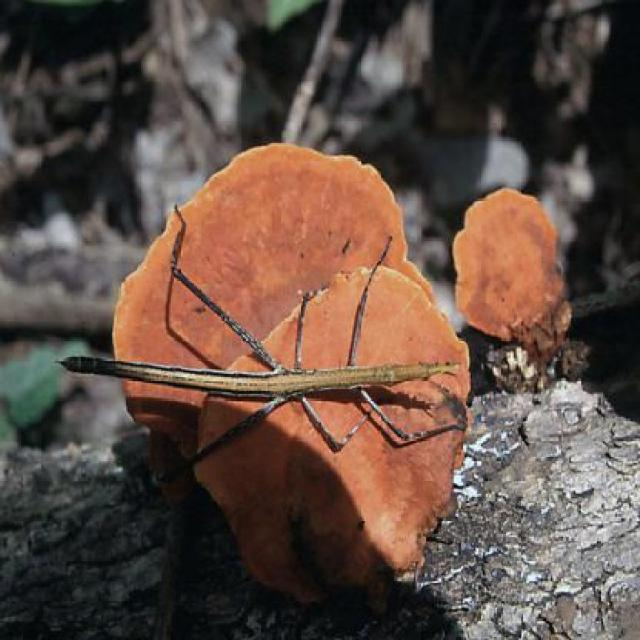Mushroom: (195, 264, 470, 606), (452, 185, 574, 398)
